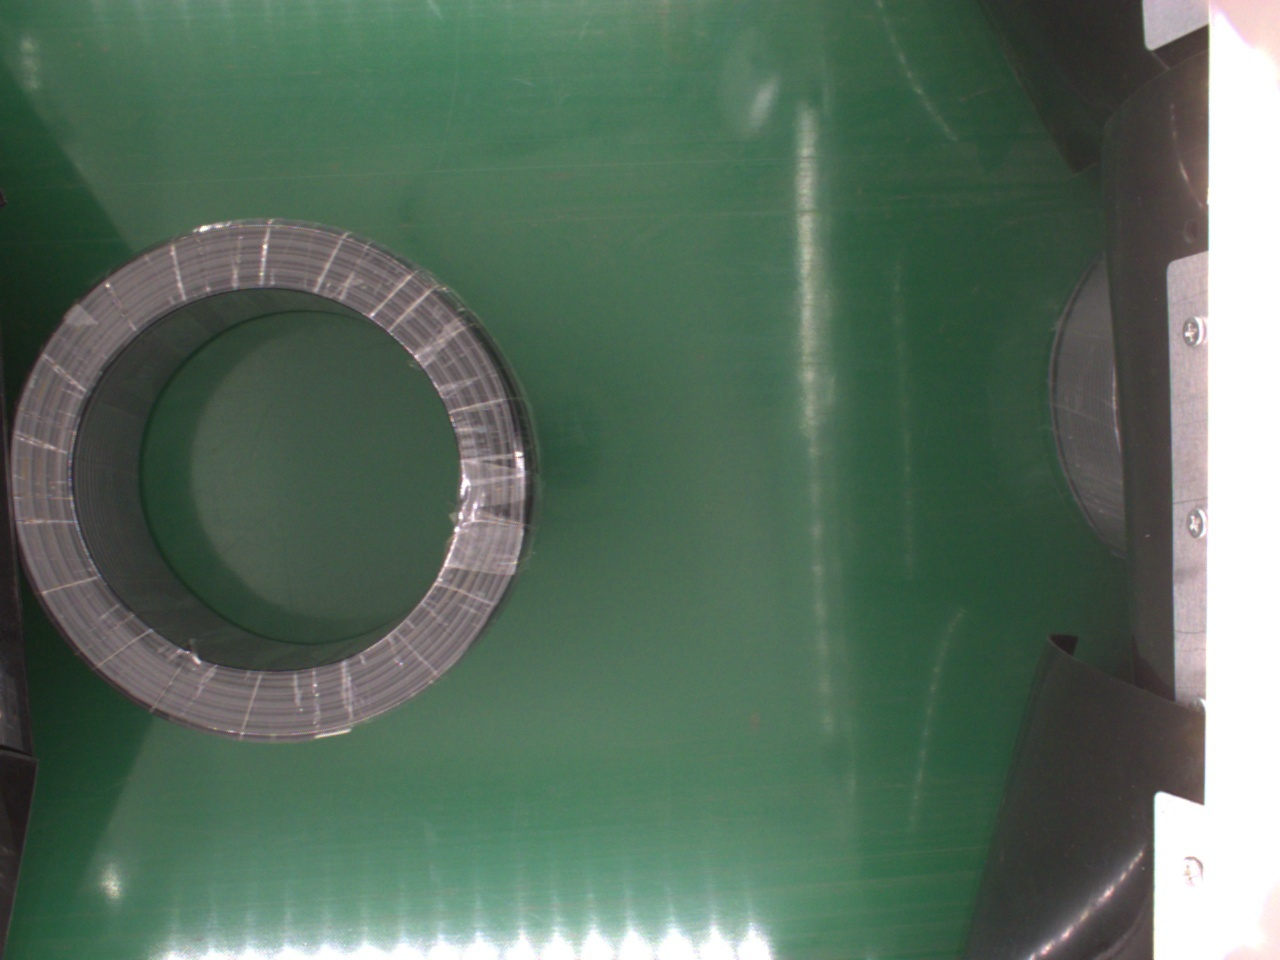black: (16, 215, 532, 744)
